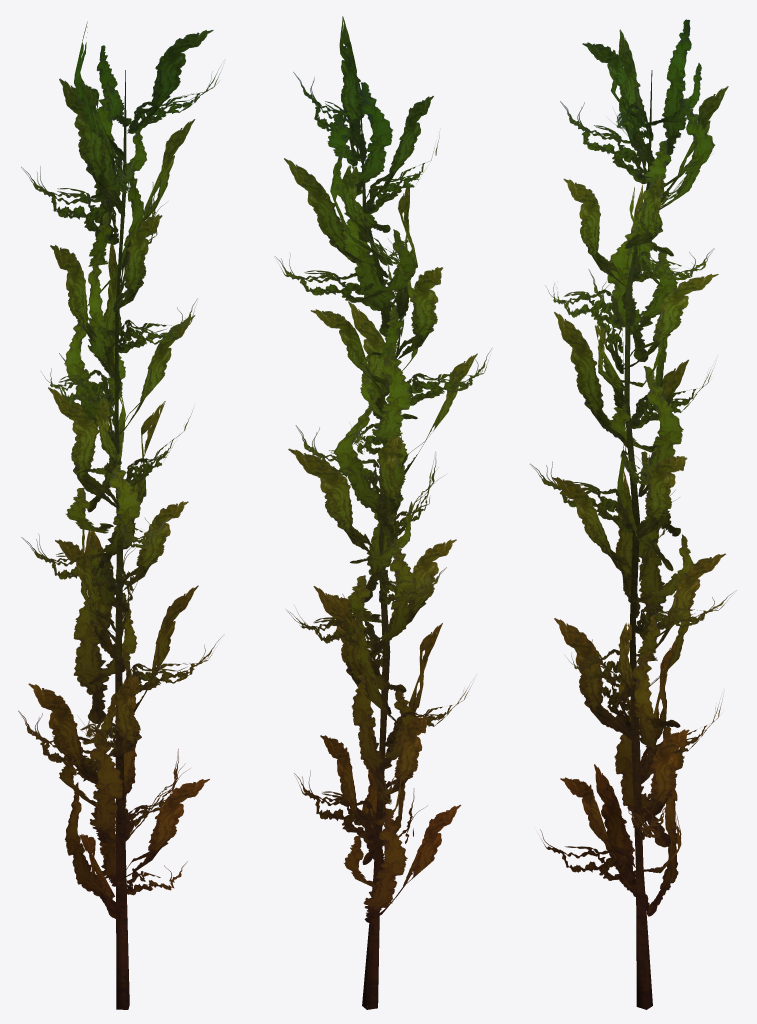
The model's file is SeaWeed06_LOD0_FattooCreater.glb.
The picture shows the model from 3 angles, left to right: view 1: azimuth 30°, elevation 25°; view 2: azimuth 150°, elevation 25°; view 3: azimuth 270°, elevation 25°; orthographic projection. The views are drawn at different scales.
Visible parts, largest first — view 1: SeaWeed06_high; view 2: SeaWeed06_high; view 3: SeaWeed06_high.
Part boxes in pixels (left/top/right/bottom): SeaWeed06_high: left=18, top=21, right=224, bottom=1009; SeaWeed06_high: left=274, top=16, right=492, bottom=1009; SeaWeed06_high: left=530, top=19, right=736, bottom=1009.
Bounding box in the file's own units: 1.4 × 6.53 × 1.3.
Materials: 1 (1 with a texture image).
